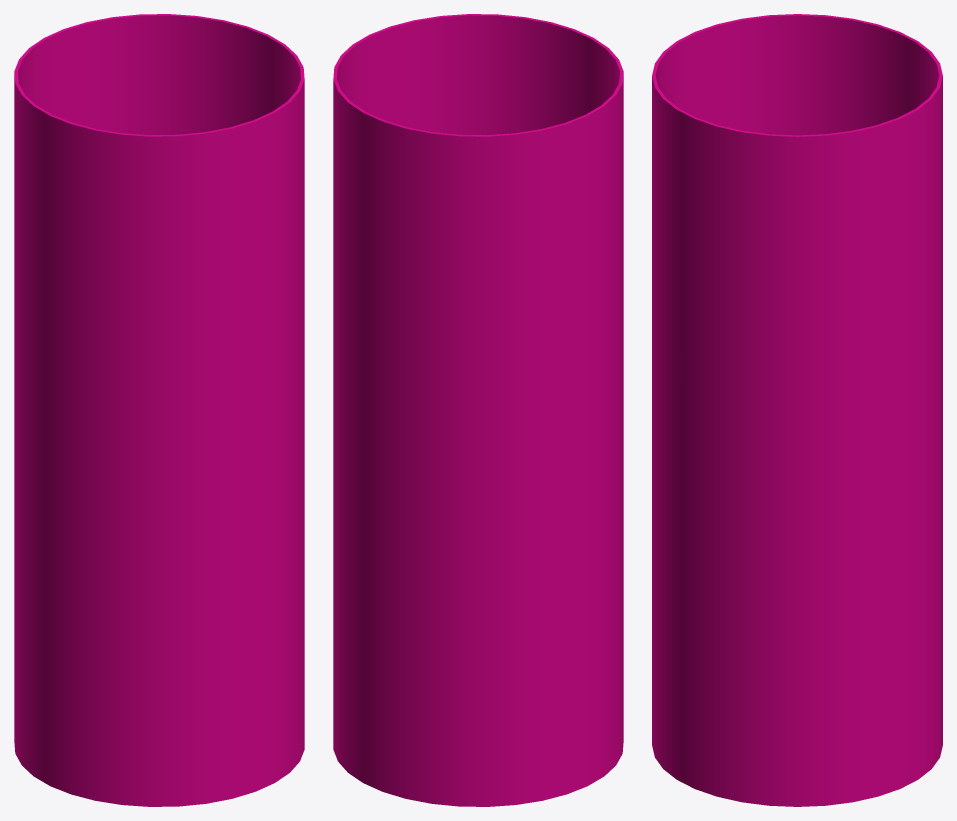
The model's file is ekcircle.fbx.
3 renders of one model, left to right at view 1: azimuth 30°, elevation 25°; view 2: azimuth 150°, elevation 25°; view 3: azimuth 270°, elevation 25°, orthographic.
Parts seen in each view (by area): view 1: ekcircle; view 2: ekcircle; view 3: ekcircle.
Boxes of the visible parts, box(x1,y1,x2,y2) form: ekcircle: box(14, 14, 304, 806); ekcircle: box(333, 14, 623, 806); ekcircle: box(652, 14, 942, 806).
Bounding box in the file's own units: 120 × 304 × 120.
